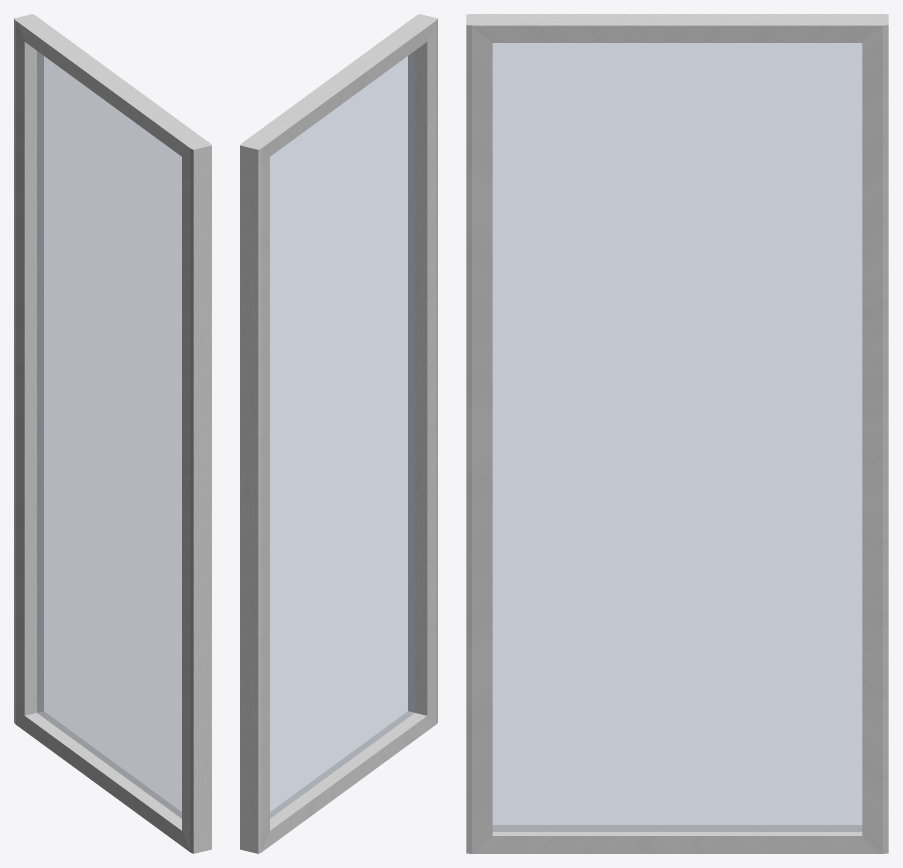
The model's file is glass-door.glb.
3 views of the same model, side by side, from view 1: azimuth 30°, elevation 25°; view 2: azimuth 150°, elevation 25°; view 3: azimuth 270°, elevation 25° (orthographic). The views are drawn at different scales.
Parts seen in each view (by area): view 1: Cube.009; view 2: Cube.009; view 3: Cube.009.
Boxes of the visible parts, x1=… form: Cube.009: x1=14, y1=14, x2=211, y2=853; Cube.009: x1=240, y1=14, x2=437, y2=853; Cube.009: x1=466, y1=14, x2=888, y2=853.
Size of the model in its own units: 0.1065 by 3.57 by 1.65.
2 materials, 1 textured.
